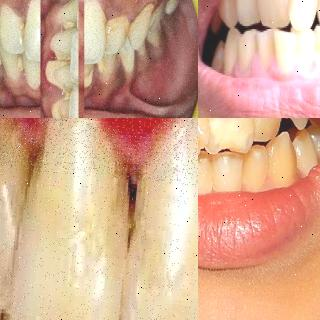calculus: (128, 2, 157, 42), (104, 13, 132, 52), (45, 60, 73, 89), (48, 95, 72, 118), (81, 58, 95, 94), (97, 55, 113, 86), (12, 18, 28, 49), (49, 45, 73, 63), (58, 18, 80, 37), (14, 56, 26, 82), (59, 0, 77, 7), (0, 47, 4, 74)
maligned: (267, 130, 299, 186), (270, 27, 298, 74), (254, 0, 294, 29), (290, 30, 316, 72), (287, 0, 320, 26), (231, 0, 261, 28), (251, 118, 283, 138)
